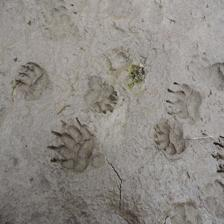beaver: (43, 115, 105, 172), (11, 60, 53, 104)
